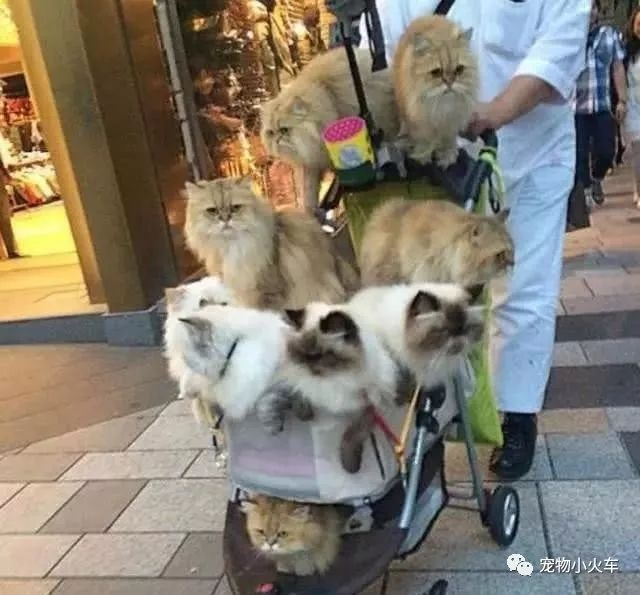cat: (259, 45, 396, 213), (184, 175, 356, 306), (280, 302, 400, 472), (353, 282, 489, 394), (358, 197, 516, 289), (390, 16, 481, 169), (179, 307, 297, 416)
